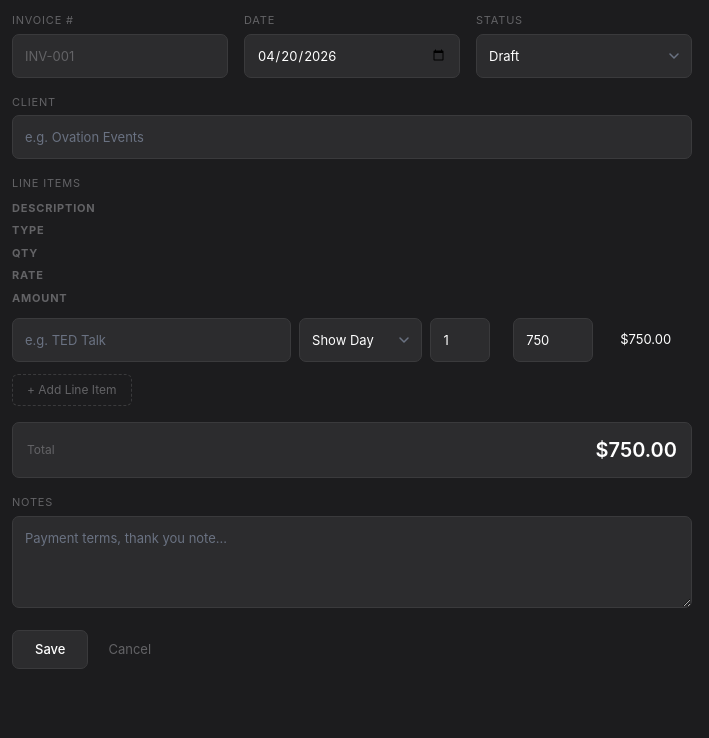
removes a line item
Click the button "+ Add Line Item" at (72, 390), box x1=12 y1=374 x2=132 y2=406
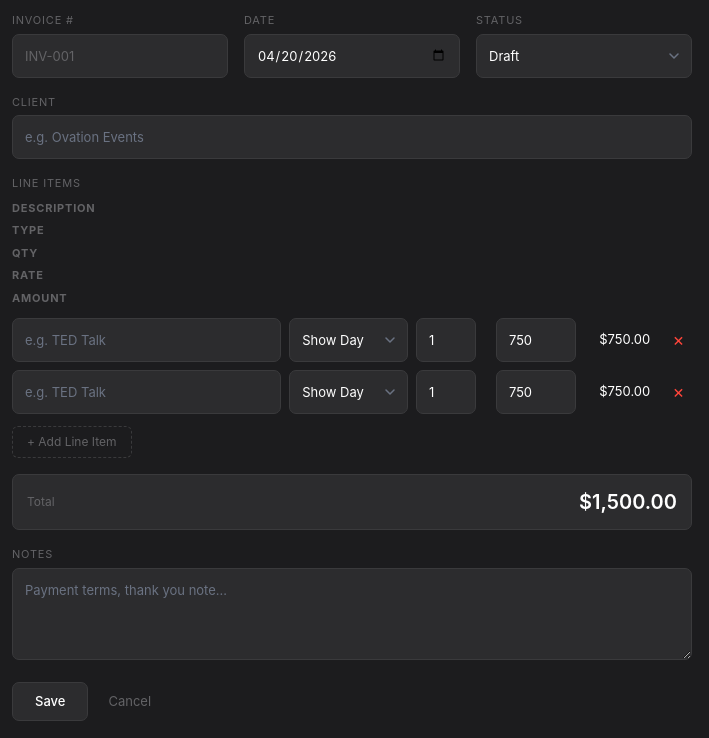
Click the button named "remove-item-1" at (679, 392), box x1=669 y1=383 x2=688 y2=401
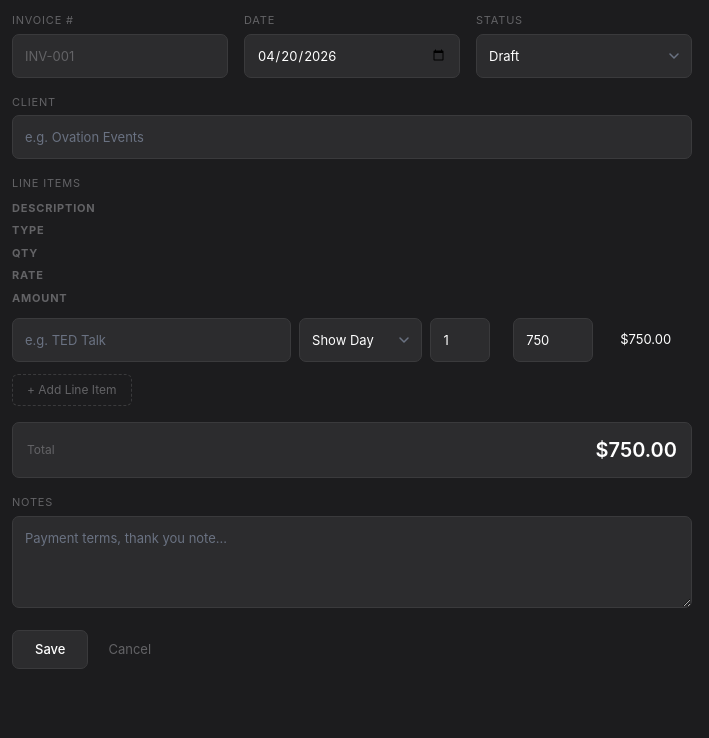
Result: the field labelled "item-1-description" is gone
